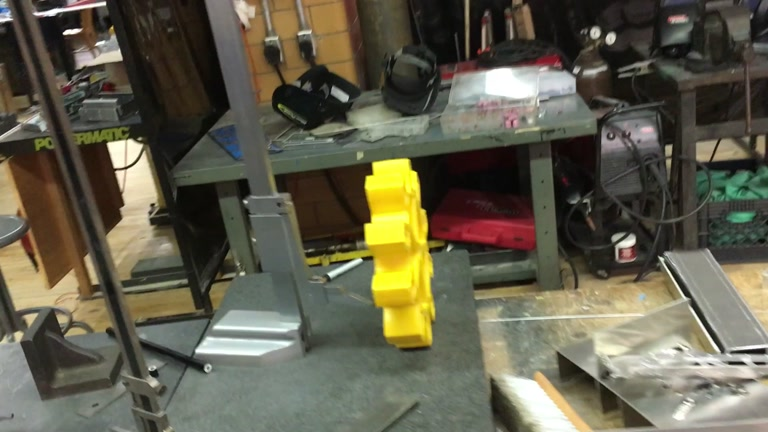gear: (361, 156, 436, 351)
